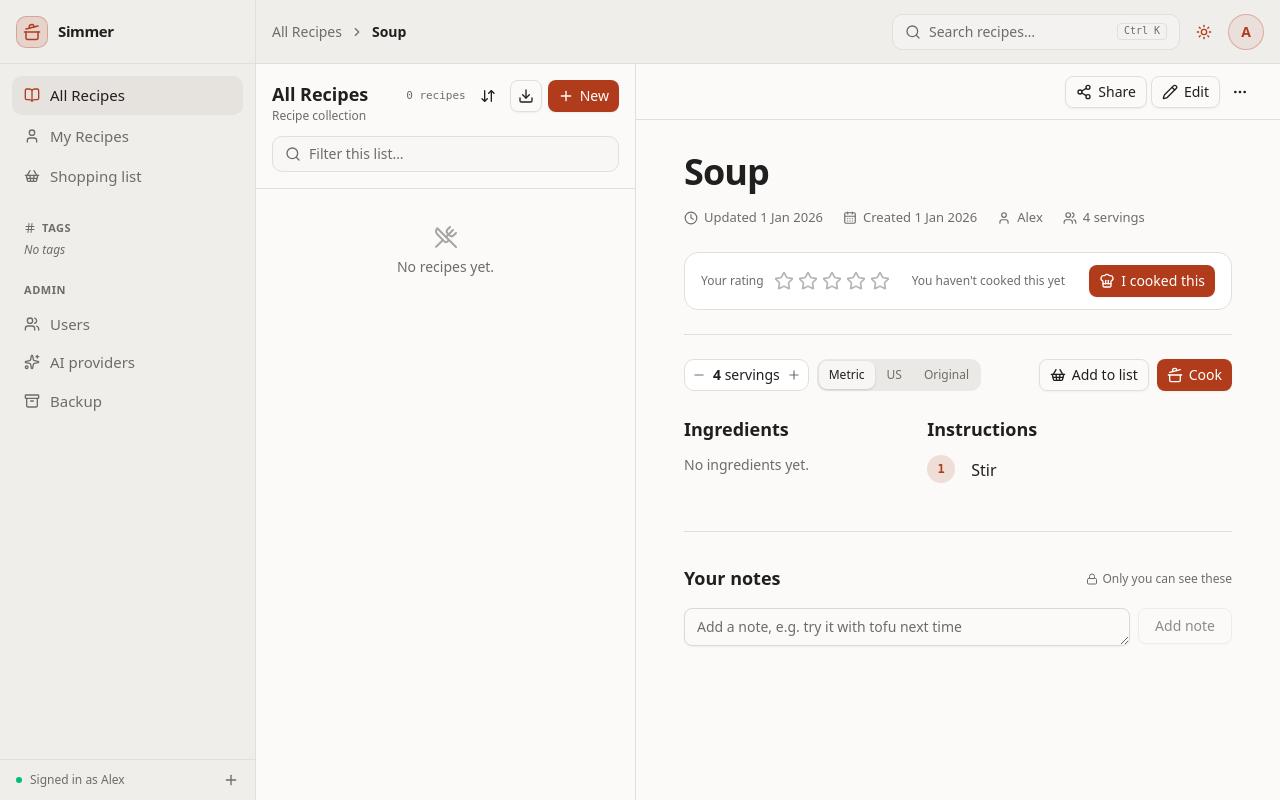
Test case: cooking view › goes back to the recipe keeping the servings and units chosen while cooking
Click the link with aria-label "Cooking view" at x=1194, y=374, box x1=1157 y1=358 x2=1232 y2=390
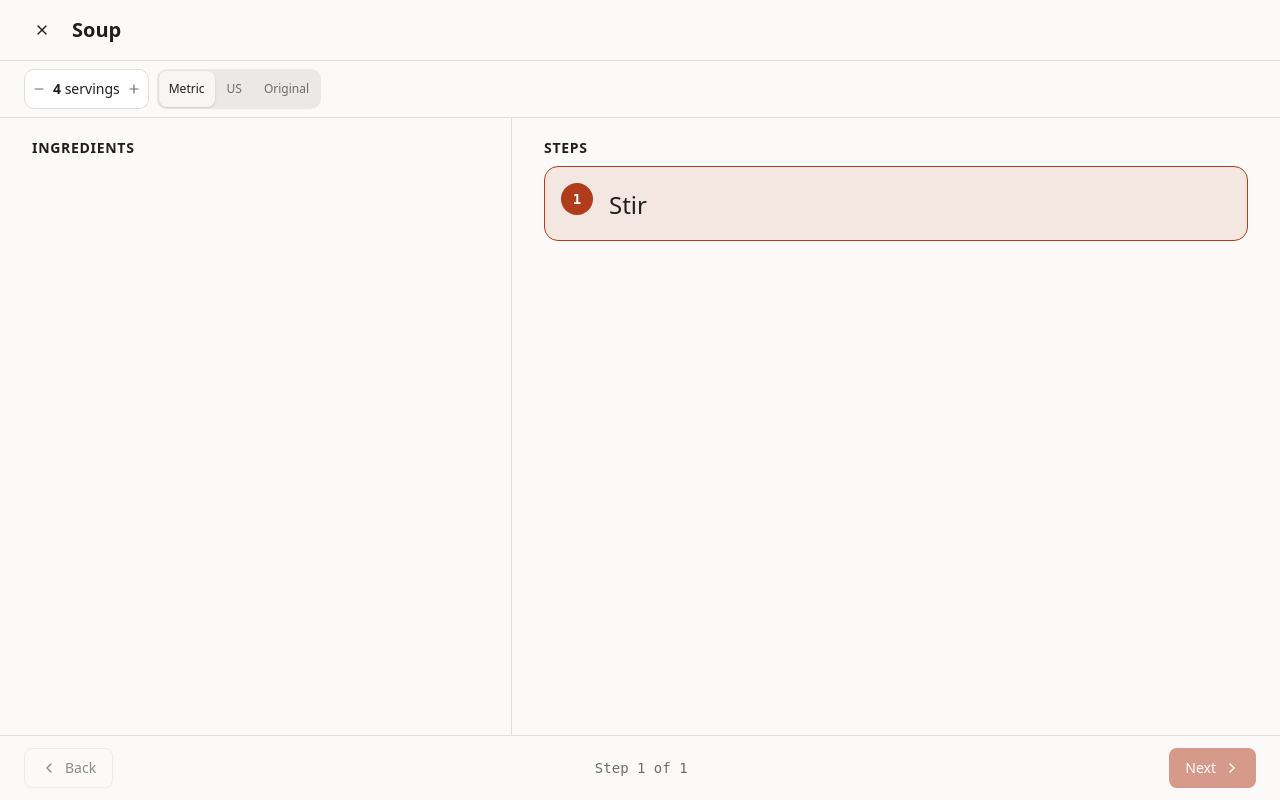
Click the button named "More servings" at x=134, y=89, box x1=120 y1=70 x2=148 y2=108
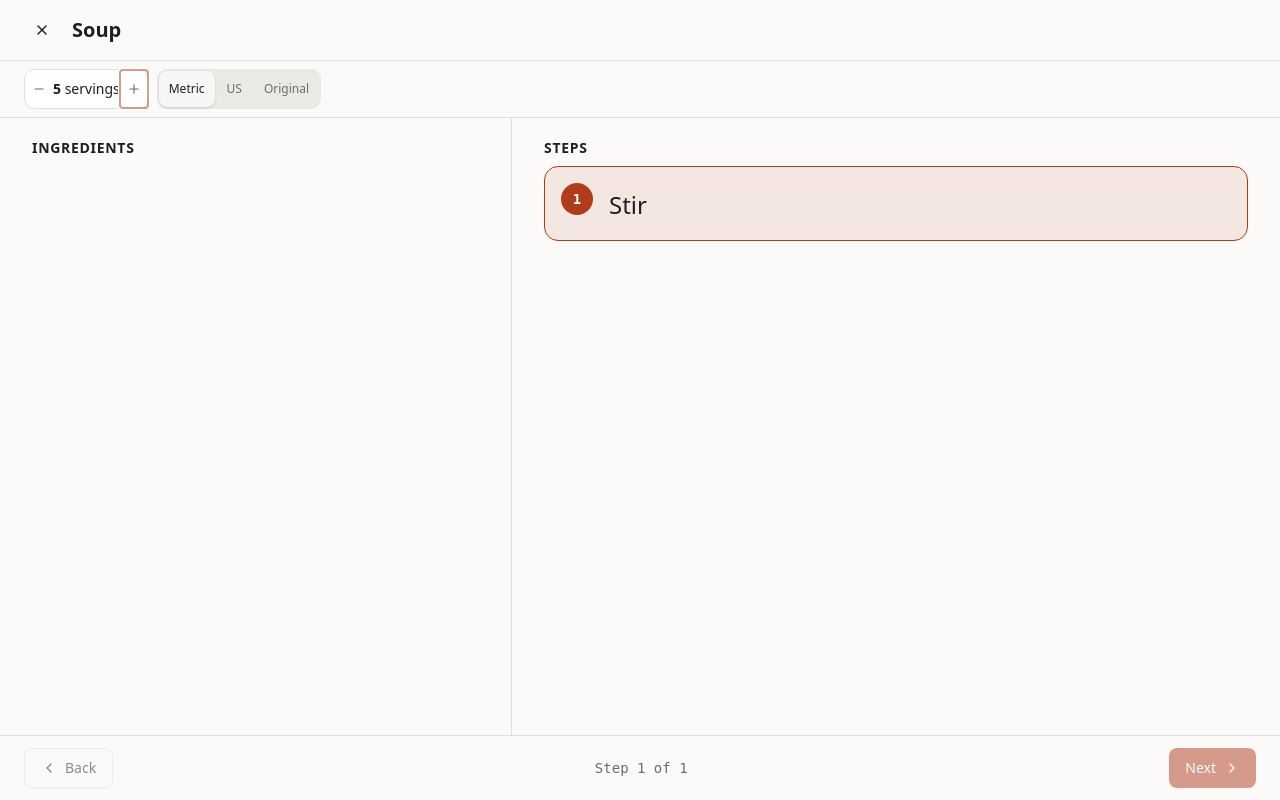
Click the radio button labelled "US" at x=234, y=89, box x1=216 y1=71 x2=252 y2=107
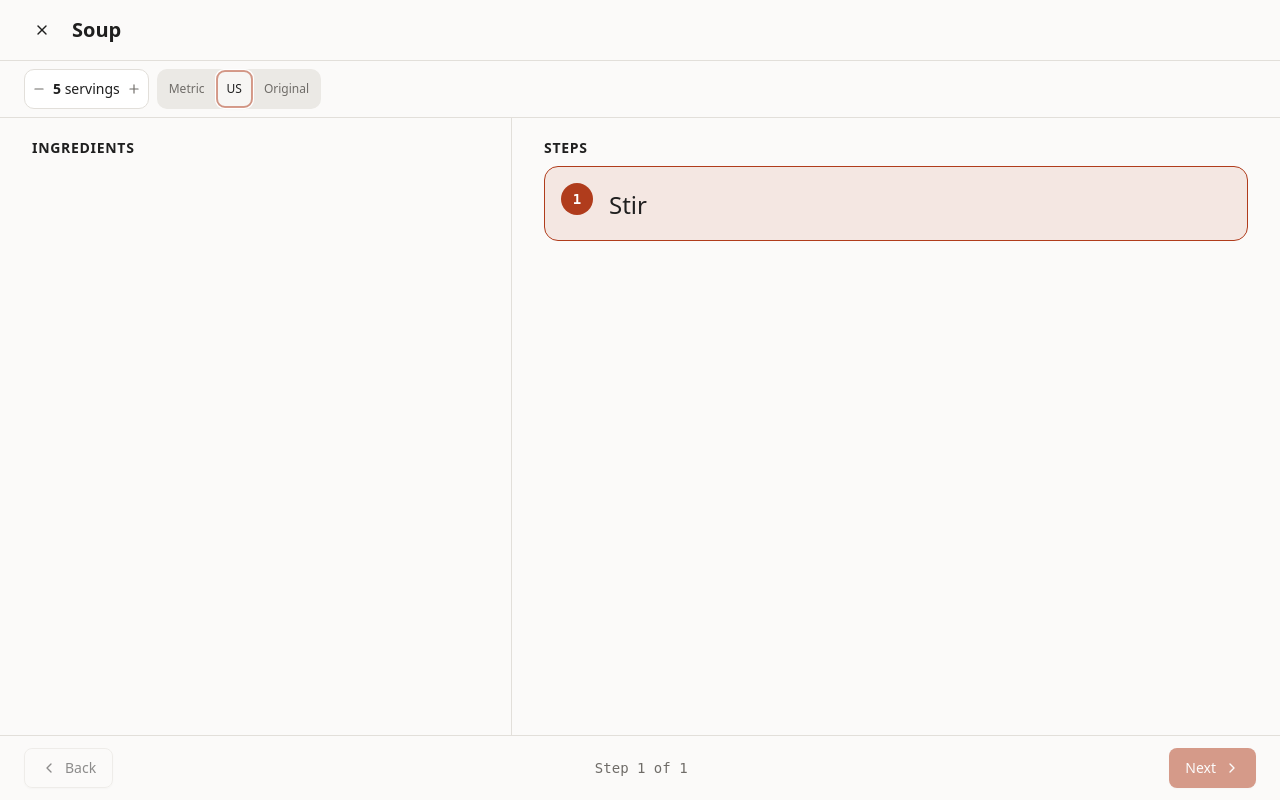
Click the link named "Leave cooking view" at x=42, y=30, box x1=34 y1=22 x2=50 y2=38
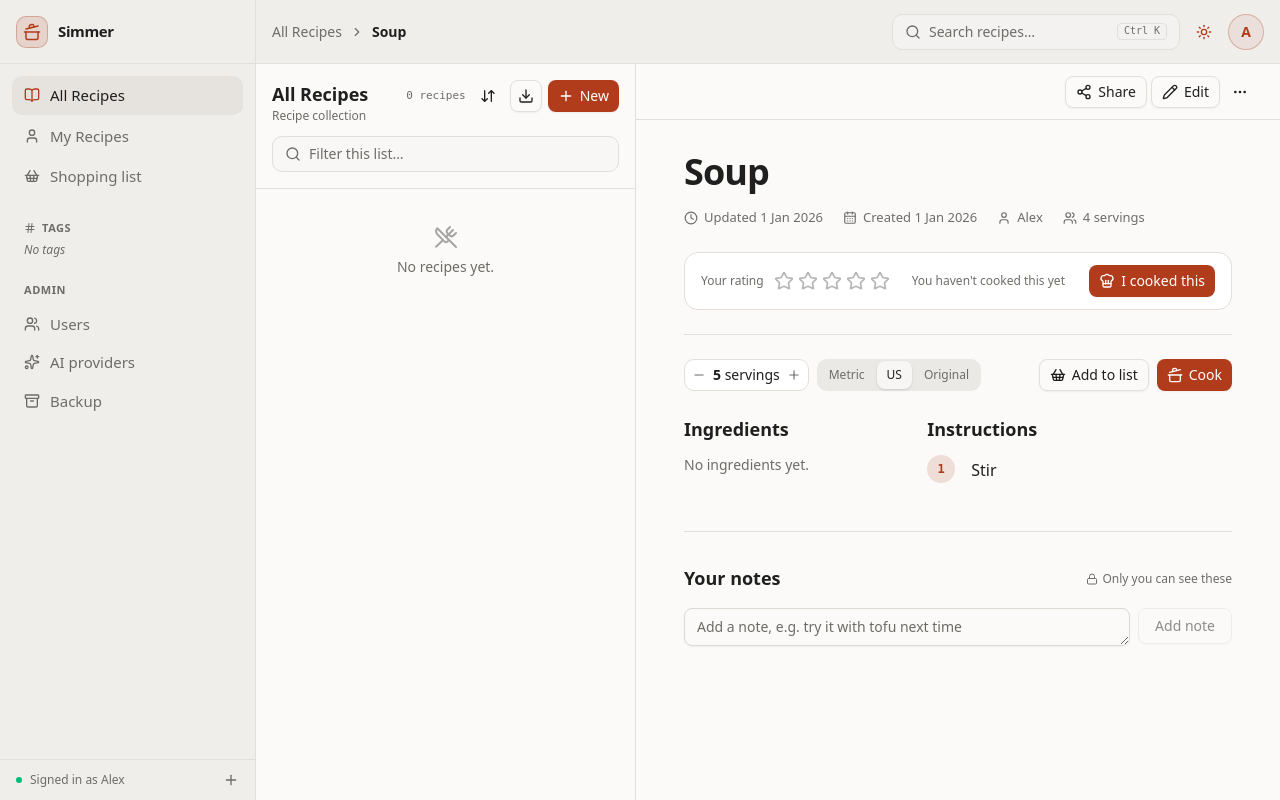
Expected: the radio button labelled "US" is checked, x1=876 y1=360 x2=912 y2=388
Expected: the heading "Soup" is shown, x1=684 y1=147 x2=769 y2=196
